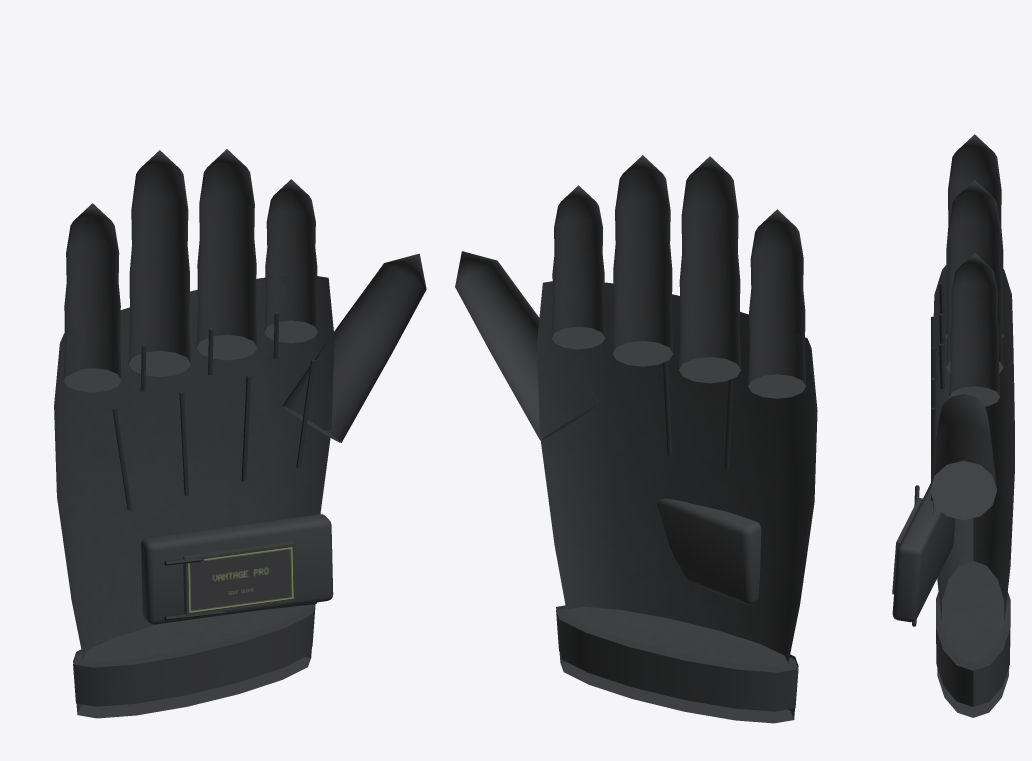
File: pf_glove_black.glb
The picture shows the model from 3 angles, left to right: view 1: azimuth 30°, elevation 25°; view 2: azimuth 150°, elevation 25°; view 3: azimuth 270°, elevation 25°; orthographic projection. The views are drawn at different scales.
Visible parts, largest first — view 1: pf_glove_black_body; view 2: pf_glove_black_body; view 3: pf_glove_black_body.
Part boxes in pixels (<box>): pf_glove_black_body: <box>54,149,426,718</box>; pf_glove_black_body: <box>455,155,817,723</box>; pf_glove_black_body: <box>892,134,1014,717</box>.
Size of the model in its own units: 0.1299 by 0.2 by 0.0394.
5 materials, 3 textured.
